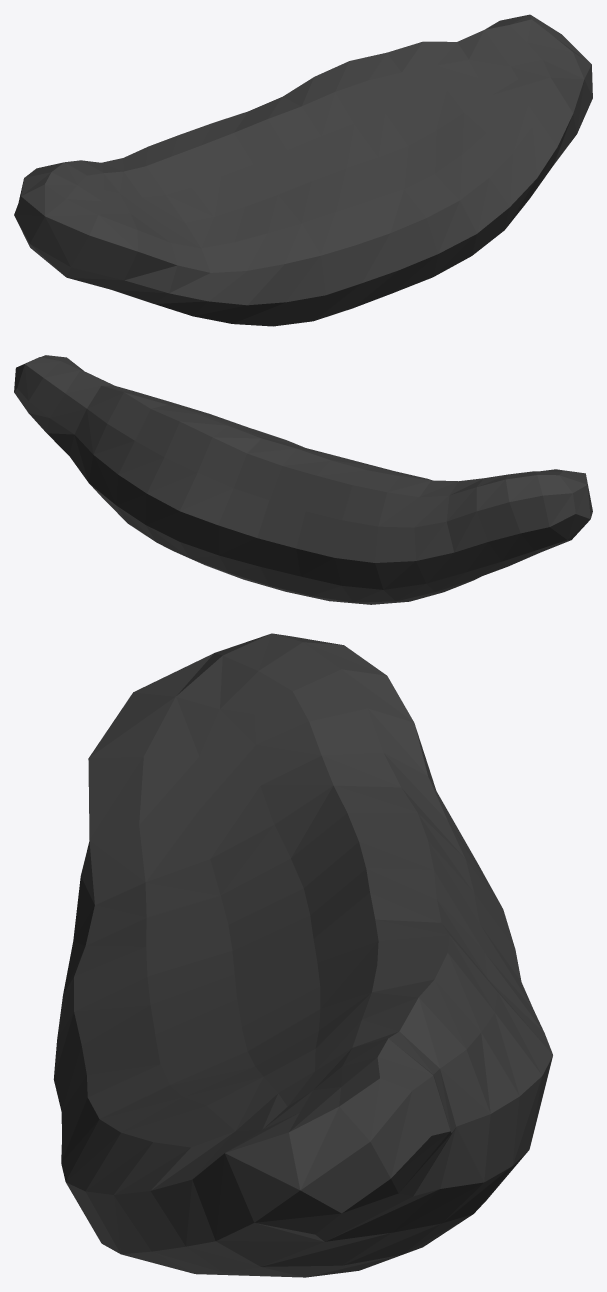
Rendered from HL_Navicular_L.glb.
3 renders of one model, top to bottom at view 1: azimuth 30°, elevation 25°; view 2: azimuth 150°, elevation 25°; view 3: azimuth 270°, elevation 25°, orthographic. The views are drawn at different scales.
Parts seen in each view (by area): view 1: HL_Navicular_L; view 2: HL_Navicular_L; view 3: HL_Navicular_L.
Boxes of the visible parts, x1,y1,x2,y2 form: HL_Navicular_L: [14, 14, 592, 326]; HL_Navicular_L: [14, 355, 592, 604]; HL_Navicular_L: [53, 633, 552, 1277].
Size of the model in its own units: 0.0574 by 0.0181 by 0.0225.
Materials: 1 (1 with a texture image).
